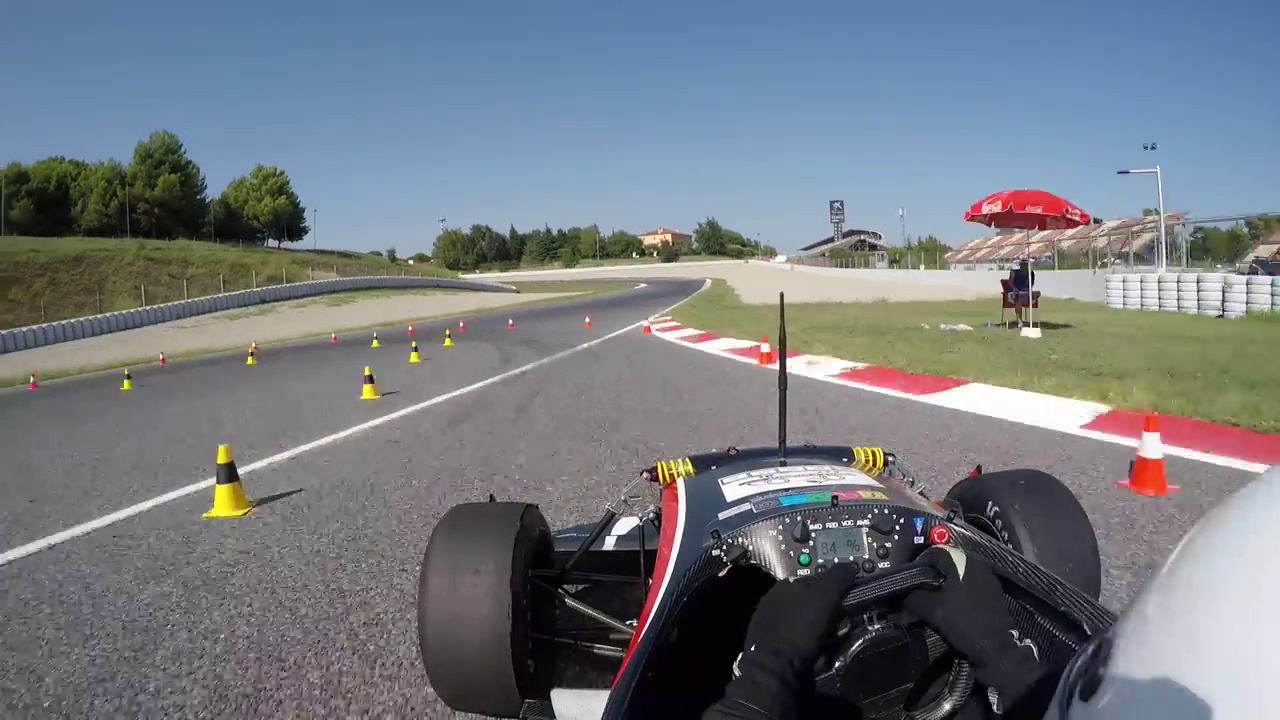Cone: (1118, 412, 1184, 493), (204, 440, 256, 517), (358, 362, 385, 402)
